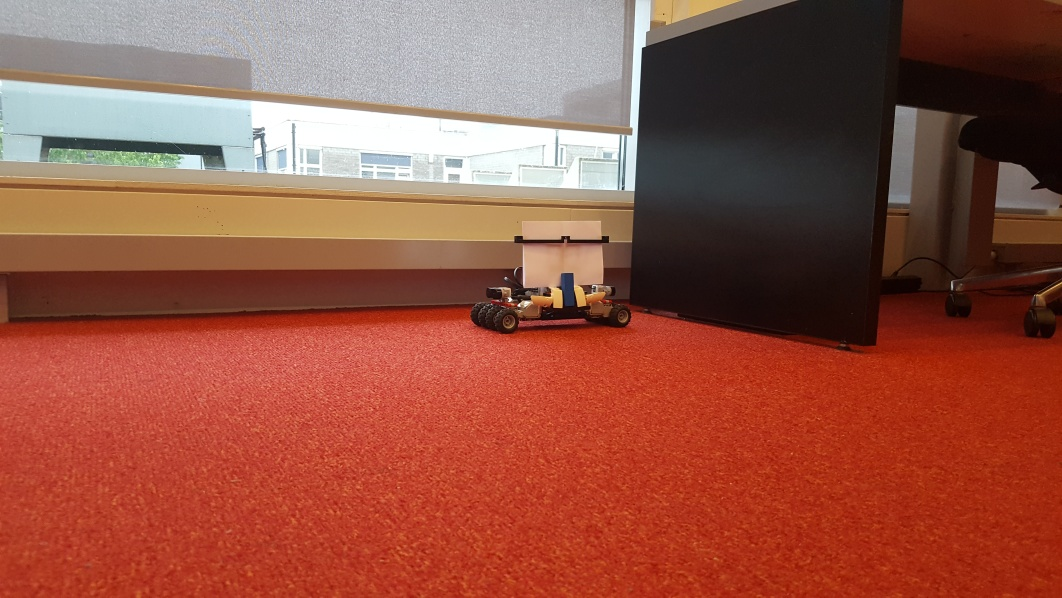car: (470, 221, 632, 331)
